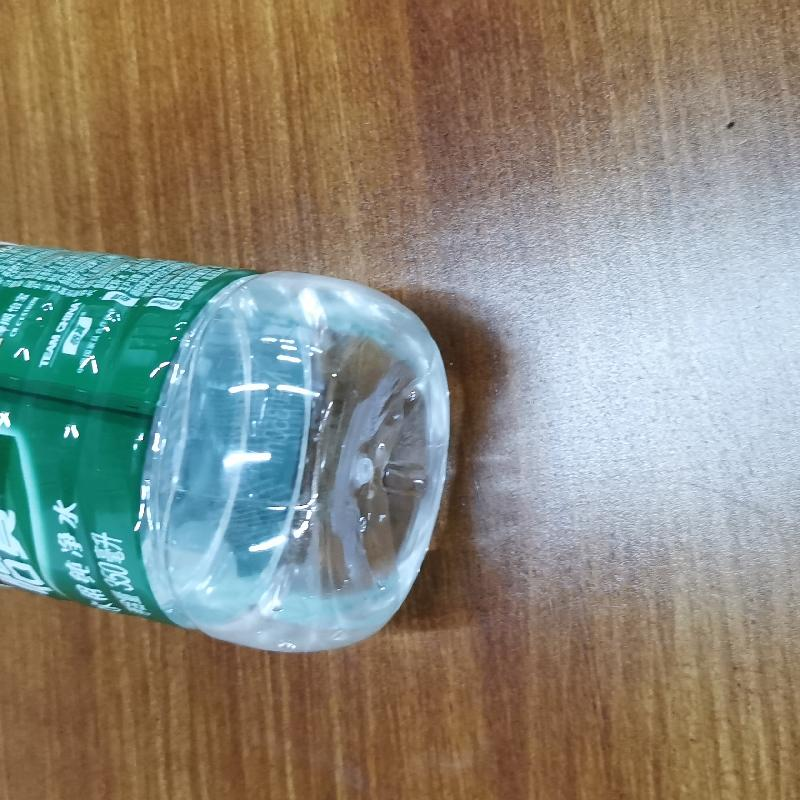bottles: (2, 226, 452, 668)
